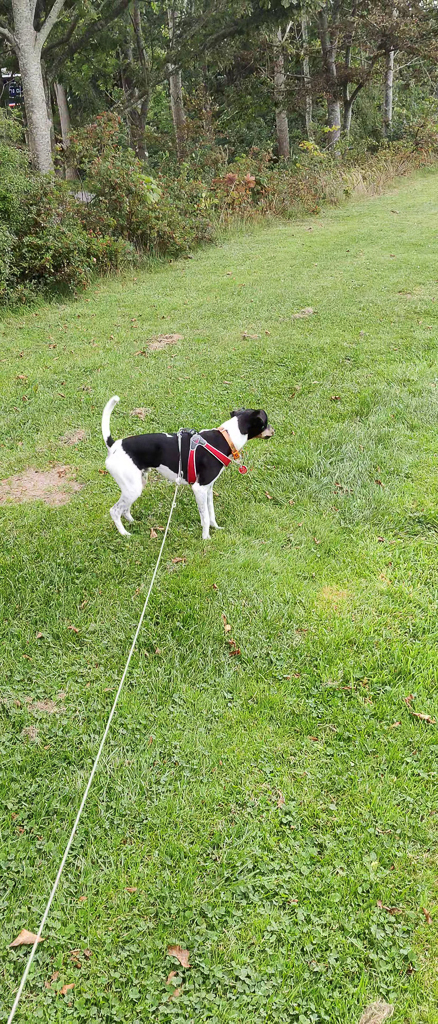Dog: (84, 382, 282, 549)
